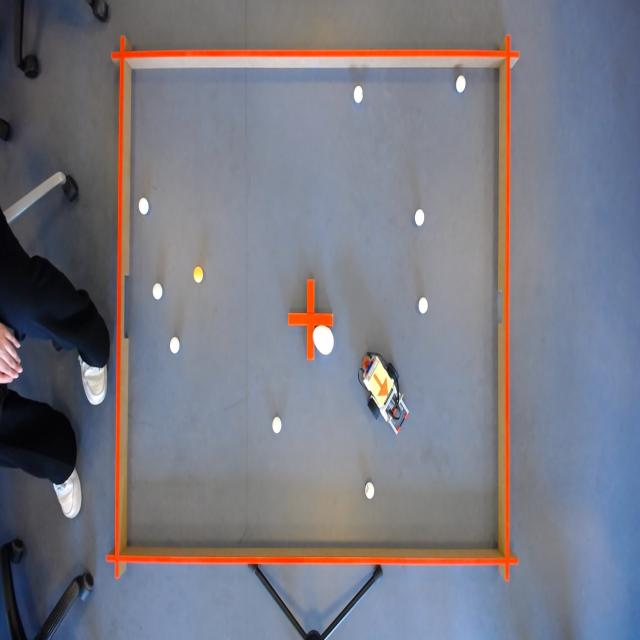cross: (287, 277, 334, 363)
egg: (311, 323, 336, 359)
orange_ball: (192, 264, 205, 288)
robot: (366, 360, 394, 412)
white_ball: (412, 206, 427, 230), (416, 292, 430, 317), (168, 334, 182, 358), (352, 83, 365, 107), (454, 72, 467, 95), (151, 280, 163, 303), (270, 415, 282, 438), (137, 196, 149, 219), (363, 480, 376, 501)
